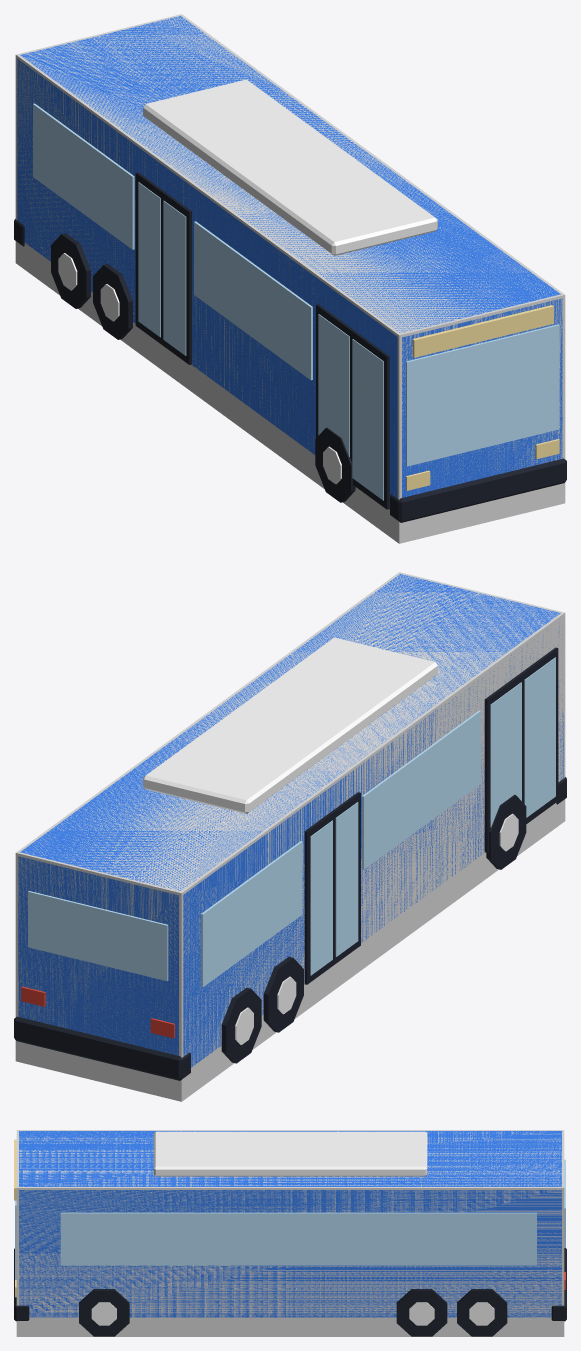
The model's file is city-bus.glb.
The picture shows the model from 3 angles, top to bottom: view 1: azimuth 30°, elevation 25°; view 2: azimuth 150°, elevation 25°; view 3: azimuth 270°, elevation 25°; orthographic projection. The views are drawn at different scales.
Visible parts, largest first — view 1: city-bus, COL_body, wheel_MR, wheel_RR, wheel_FR; view 2: city-bus, COL_body, wheel_MR, wheel_RR, wheel_FR; view 3: city-bus, COL_body, wheel_ML, wheel_FL, wheel_RL.
Part boxes in pixels (x1=…): city-bus: x1=14, y1=16, x2=566, y2=522; COL_body: x1=15, y1=14, x2=565, y2=543; wheel_MR: x1=93, y1=264, x2=132, y2=339; wheel_RR: x1=51, y1=233, x2=90, y2=308; wheel_FR: x1=315, y1=427, x2=355, y2=502; city-bus: x1=14, y1=574, x2=566, y2=1080; COL_body: x1=15, y1=572, x2=565, y2=1101; wheel_MR: x1=263, y1=956, x2=303, y2=1032; wheel_RR: x1=221, y1=987, x2=261, y2=1063; wheel_FR: x1=486, y1=794, x2=526, y2=869; city-bus: x1=14, y1=1131, x2=566, y2=1321; COL_body: x1=16, y1=1130, x2=564, y2=1336; wheel_ML: x1=396, y1=1289, x2=447, y2=1336; wheel_FL: x1=79, y1=1289, x2=129, y2=1336; wheel_RL: x1=457, y1=1289, x2=507, y2=1336.
Bounding box in the file's own units: 2.68 × 3.2 × 10.1.
